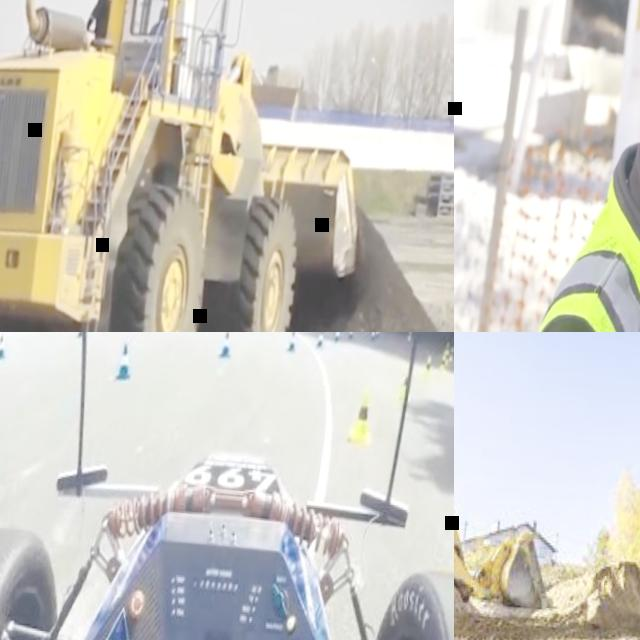Person: (508, 0, 640, 332), (149, 6, 168, 36)
Safety Cone: (345, 385, 376, 448), (116, 341, 133, 379), (399, 364, 415, 403), (216, 332, 232, 362), (421, 354, 434, 387), (437, 358, 447, 385), (288, 332, 298, 352), (0, 332, 7, 358), (445, 348, 454, 368), (442, 341, 451, 361), (316, 332, 323, 348), (333, 332, 340, 347), (75, 332, 86, 341), (369, 332, 375, 347), (18, 332, 28, 340), (347, 332, 353, 344)
Safety Vest: (508, 170, 640, 332)
vehicle: (0, 332, 454, 640), (0, 0, 397, 332), (454, 399, 575, 640)
